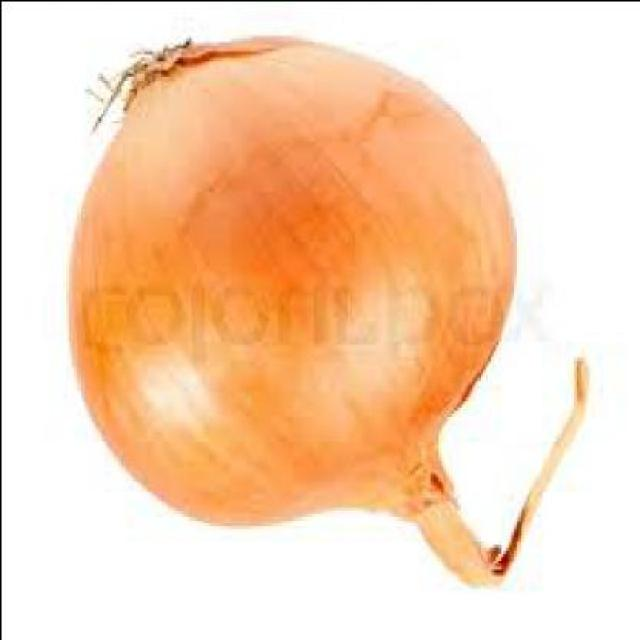BIODEGRADABLE: (68, 41, 583, 590)
